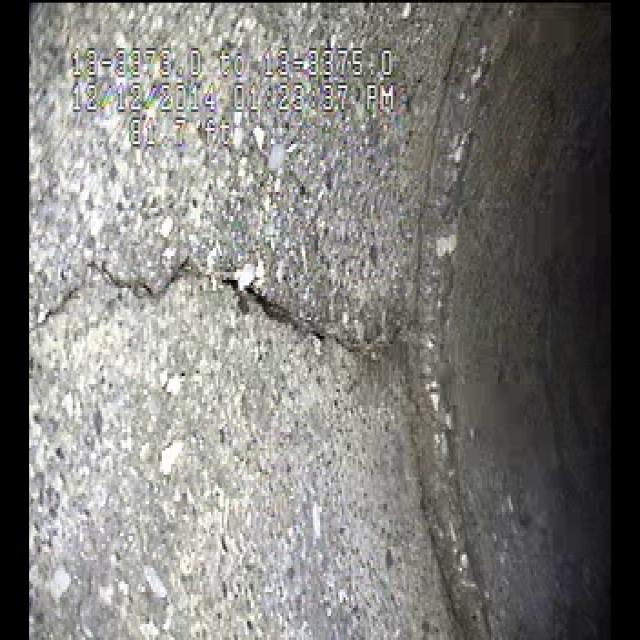Crack: (68, 217, 374, 377)
